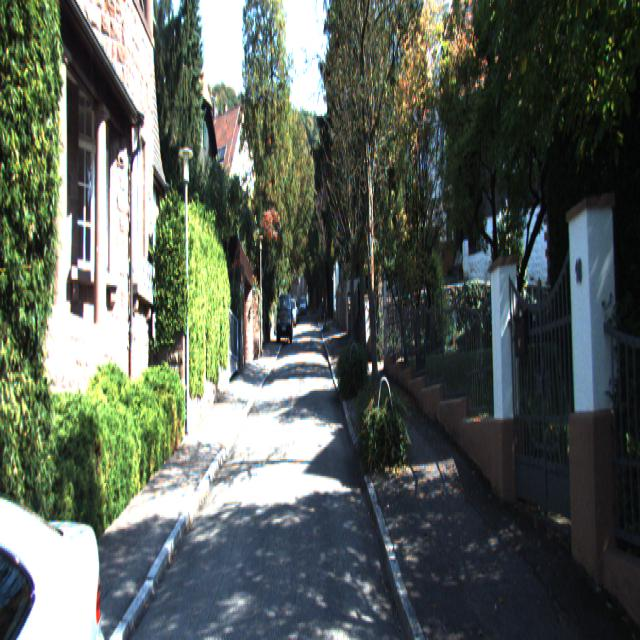Car: (0, 404, 119, 638), (276, 292, 293, 346), (289, 297, 298, 328)
